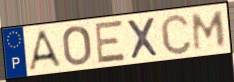A: (27, 28, 64, 73)
C: (159, 12, 194, 57)
E: (94, 19, 127, 66)
M: (191, 9, 227, 53)
O: (61, 24, 93, 67)
X: (125, 15, 161, 61)
